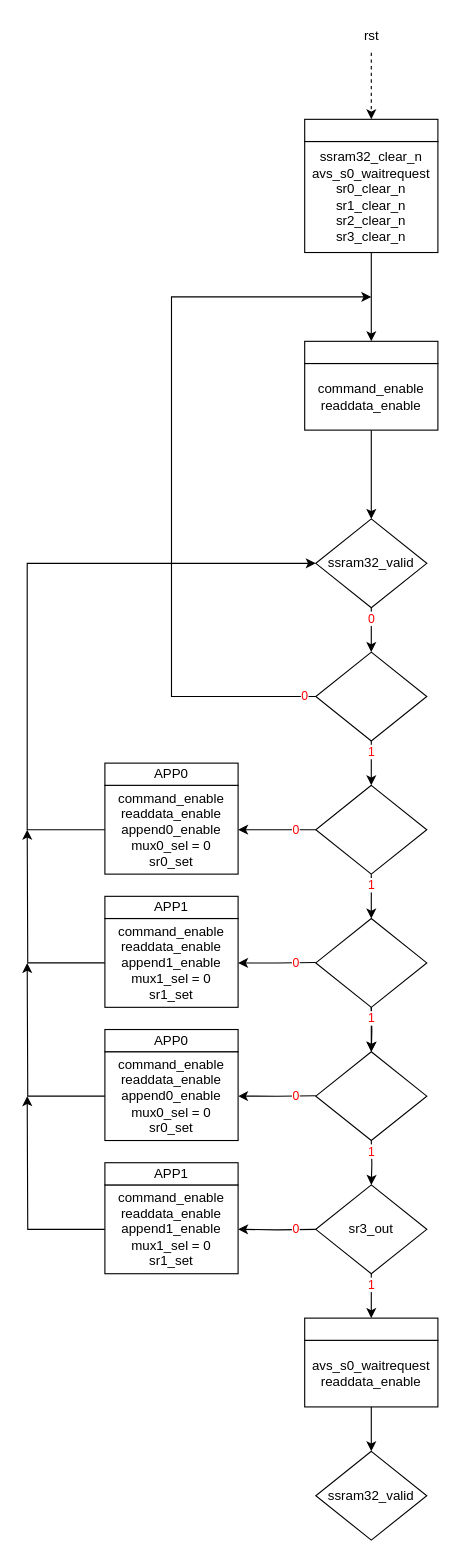
This 457x1560 diagram has some shape labels left out. The shapes that lost their labels are listed below. From the top down, each one's centre as x and y in pixels, then its label:
At point 371,130: "RESET".
At point 371,352: "IDLE".
At point 371,696: "op_req".
At point 371,829: "sr0_out".
At point 371,962: "sr1_out".
At point 371,1096: "sr2_out".
At point 371,1328: "IDLE_WAIT".
